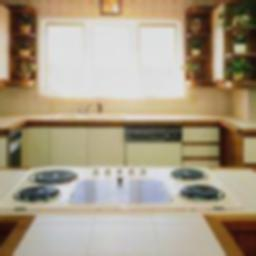Electrodomestico: (0, 168, 244, 215)
